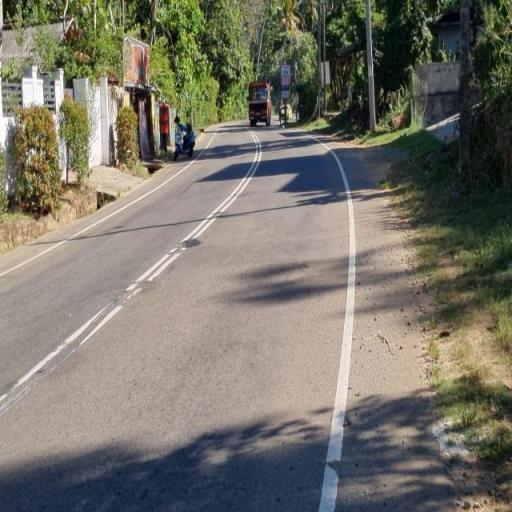double_white_line: (125, 133, 265, 301), (0, 301, 123, 415)
